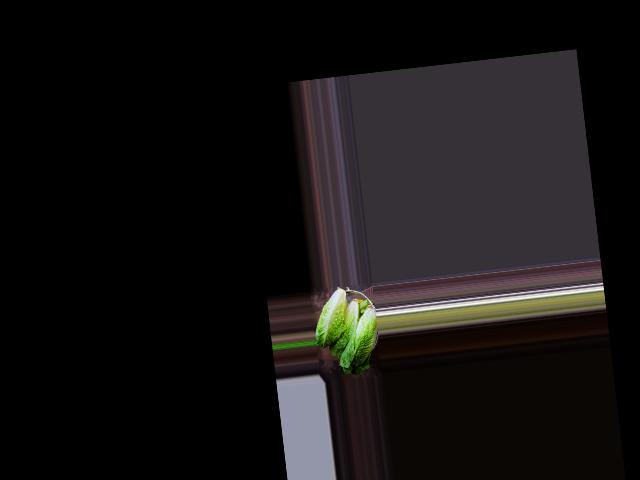lettuce: (331, 299, 382, 375)
